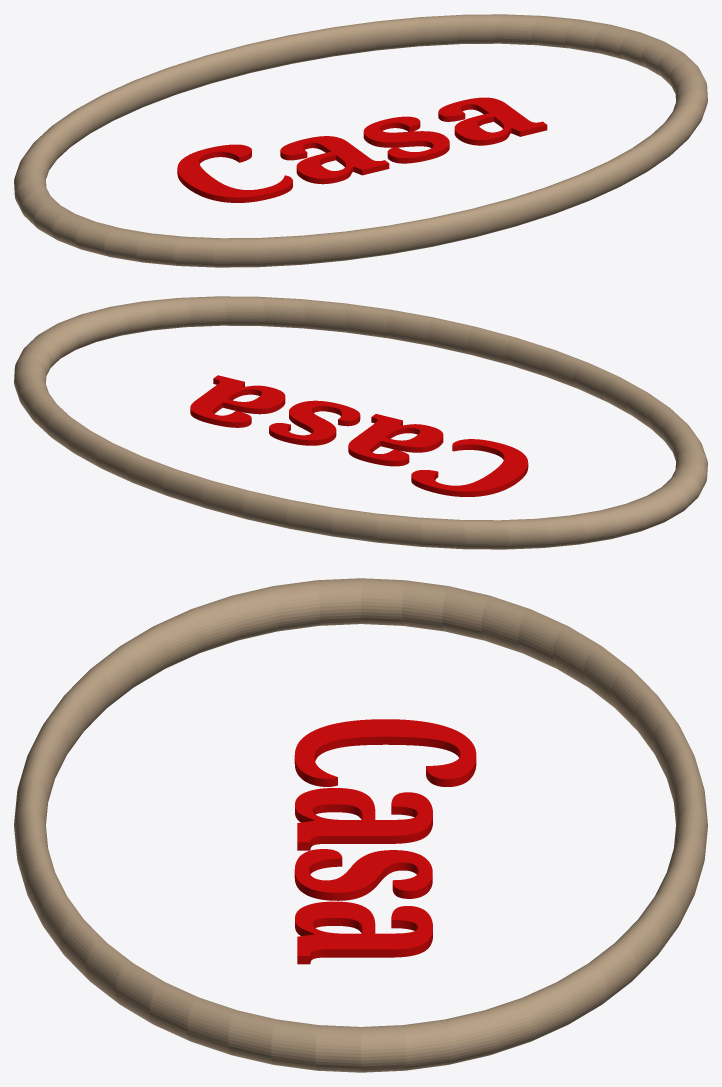
File: casa.glb
3 renders of one model, top to bottom at view 1: azimuth 30°, elevation 25°; view 2: azimuth 150°, elevation 25°; view 3: azimuth 270°, elevation 25°, orthographic. The views are drawn at different scales.
Parts seen in each view (by area): view 1: Mesh_Mesh_head_geo.001_lambert2SG.001; view 2: Mesh_Mesh_head_geo.001_lambert2SG.001; view 3: Mesh_Mesh_head_geo.001_lambert2SG.001.
Part boxes in pixels (x1,y1,x2,y2): Mesh_Mesh_head_geo.001_lambert2SG.001: (14, 14, 707, 267); Mesh_Mesh_head_geo.001_lambert2SG.001: (14, 296, 707, 549); Mesh_Mesh_head_geo.001_lambert2SG.001: (14, 578, 707, 1072).
Bounding box in the file's own units: 0.1249 × 0.005 × 0.0779.
